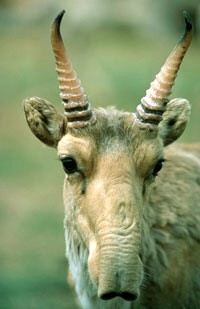saiga: (22, 10, 200, 309)
